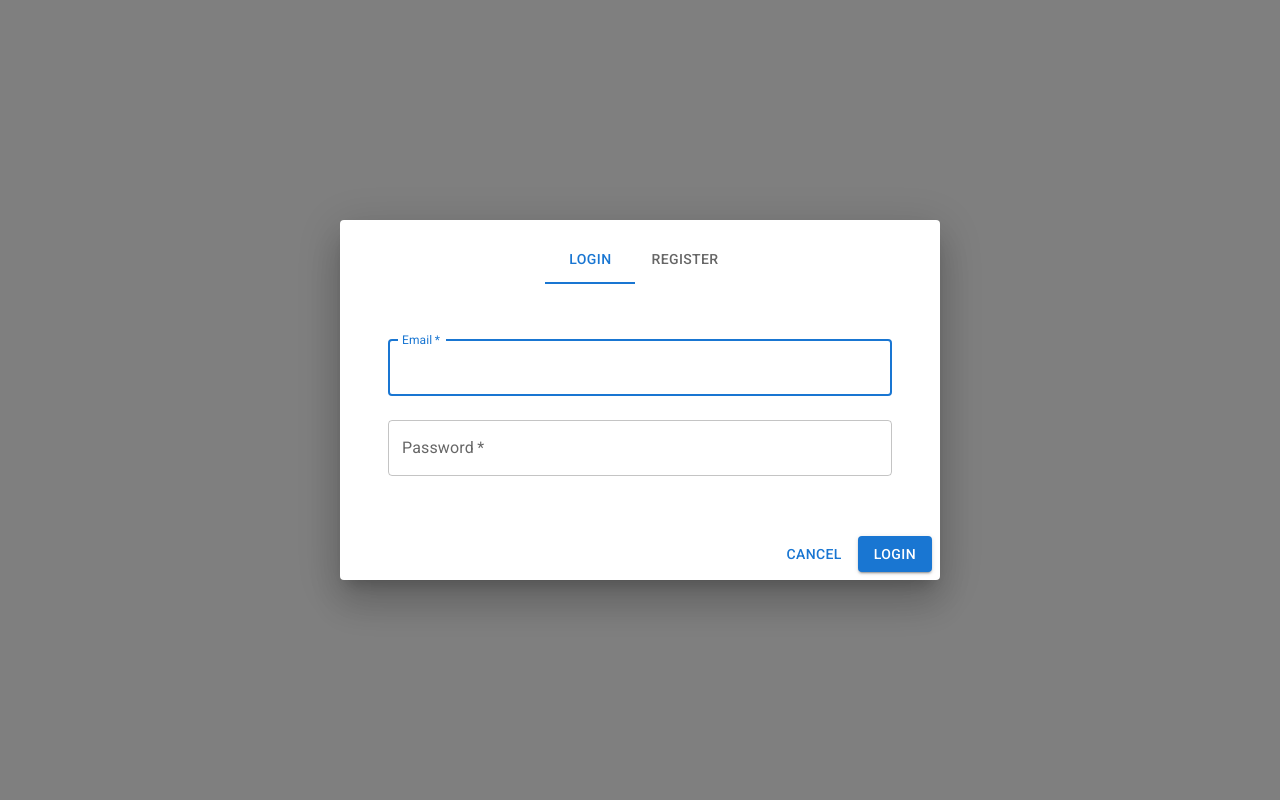
Scenario: AuthDialog › should validate email format
The width and height of the screenshot is (1280, 800).
Type "invalid-email" into the field labelled "Email *".
click(640, 368); type("invalid-email")  # box [388,340,892,396]
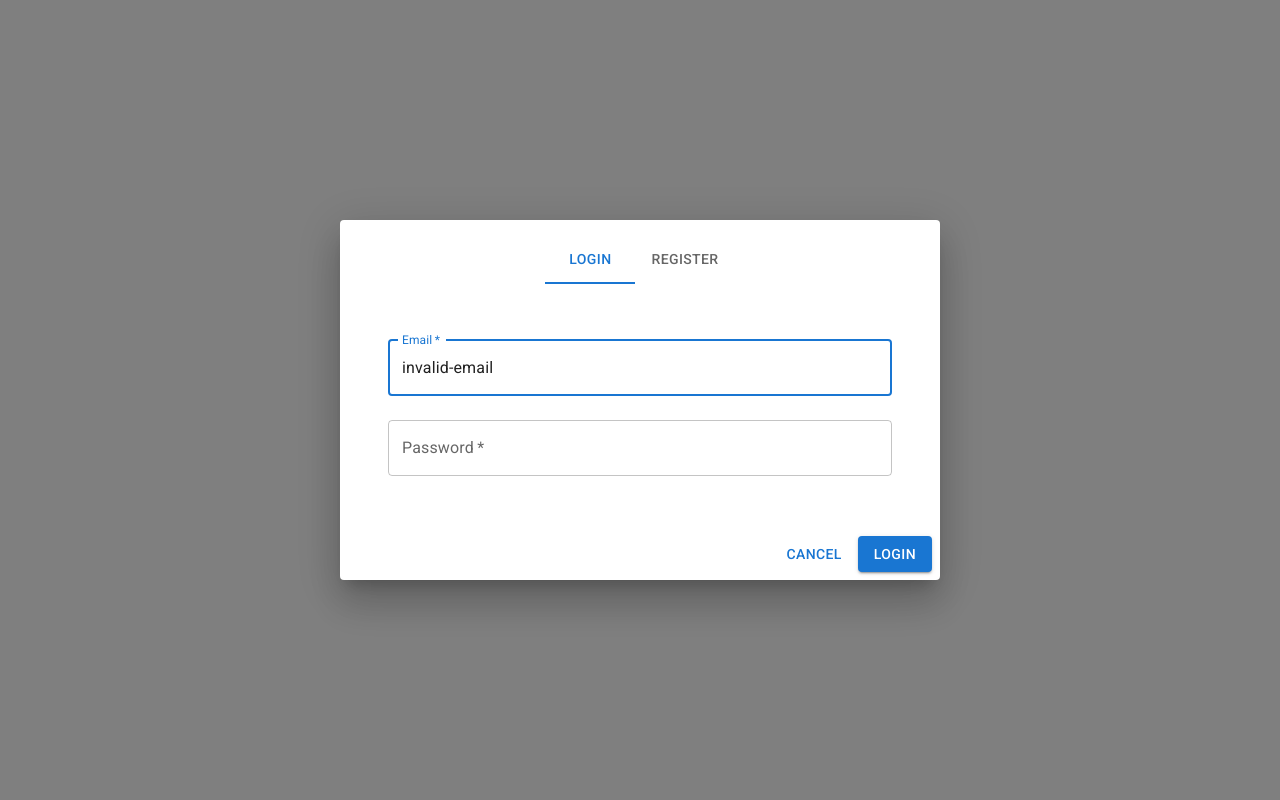
Click the button "Login".
click(895, 554)  # box [858,536,932,572]
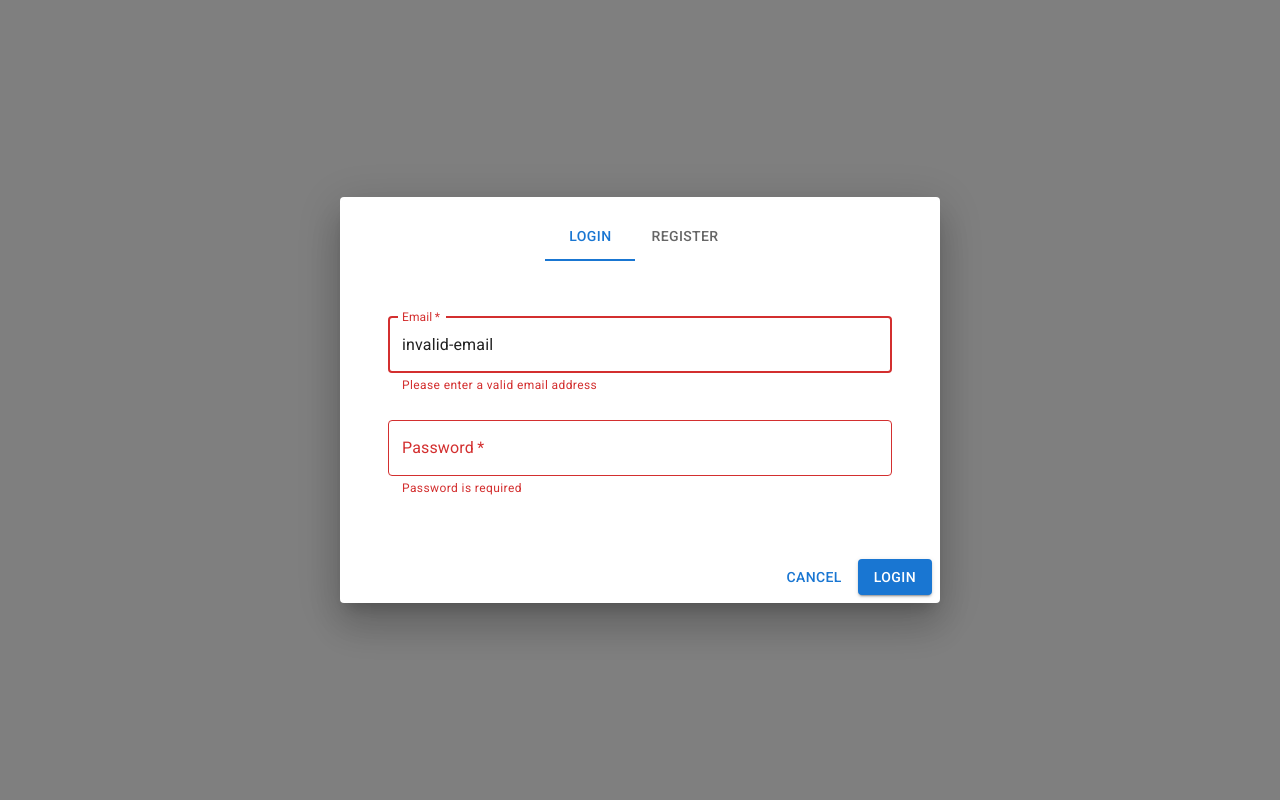
Check: the text "Please enter a valid email address" is shown, box [402,378,597,392]
